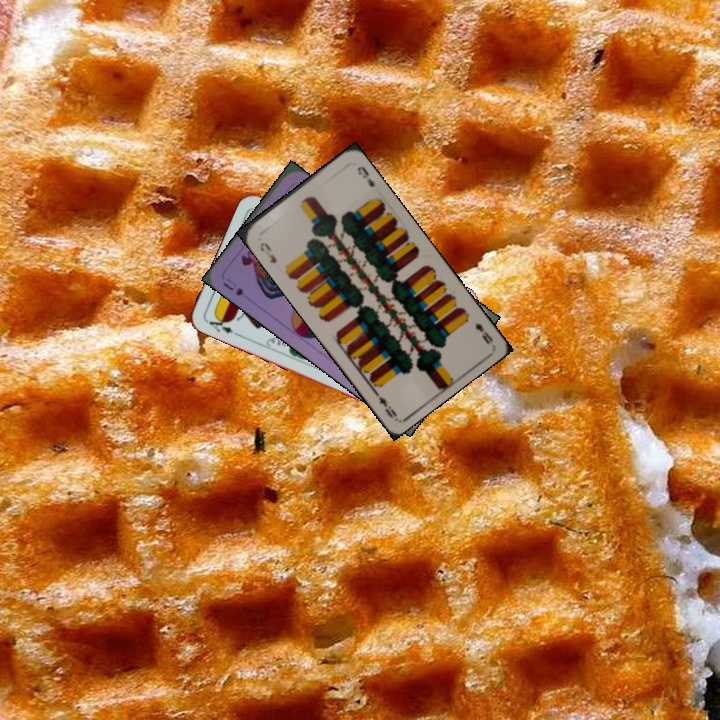E9: (255, 238, 279, 266), (471, 319, 495, 347)
EA: (202, 312, 241, 338)
SU: (219, 274, 246, 299)
